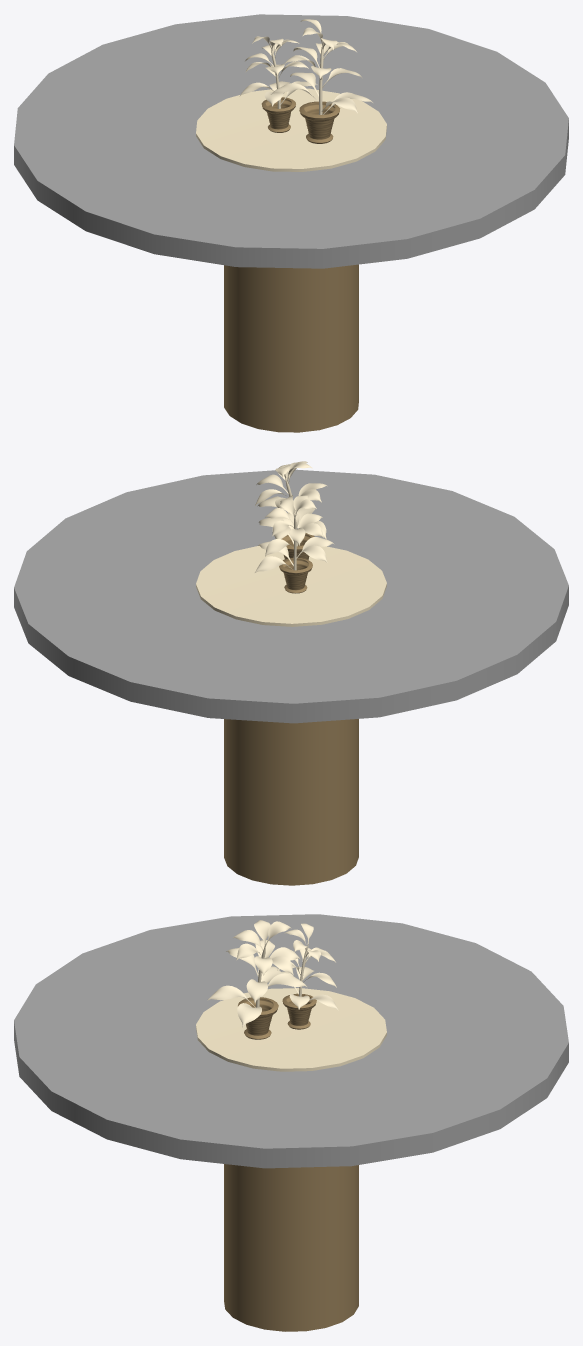
Rendered from M_Mesa Comedor.fbx.
3 views of the same model, one above another, from view 1: azimuth 30°, elevation 25°; view 2: azimuth 150°, elevation 25°; view 3: azimuth 270°, elevation 25° (orthographic).
Visible parts, largest first — view 1: pCylinder5, Planta_matera3materasrubberPlantPotted1Leaf (×2), Planta5, Planta4; view 2: pCylinder5, Planta_matera3materasrubberPlantPotted1Leaf (×2), Planta4; view 3: pCylinder5, Planta_matera3materasrubberPlantPotted1Leaf (×2), Planta5, Planta4.
Part boxes in pixels (x1,y1,x2,y2): pCylinder5: (14,14,568,432); Planta_matera3materasrubberPlantPotted1Leaf (×2): (239,19,372,114); Planta5: (299,101,340,143); Planta4: (261,97,295,132); pCylinder5: (14,469,568,885); Planta_matera3materasrubberPlantPotted1Leaf (×2): (255,461,334,572); Planta4: (279,558,312,593); pCylinder5: (14,914,568,1331); Planta_matera3materasrubberPlantPotted1Leaf (×2): (207,920,338,1026); Planta5: (238,997,278,1039); Planta4: (282,993,316,1029).
Size of the model in its own units: 25.82 by 19.84 by 25.82.
